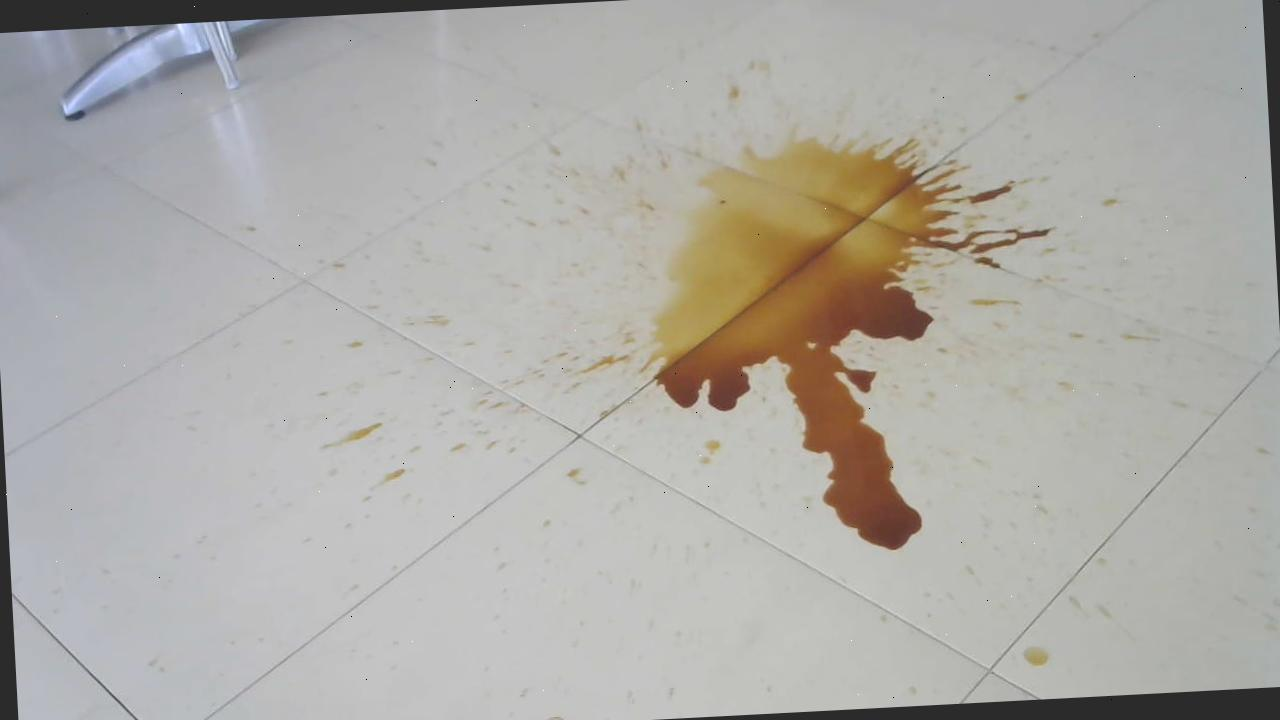dirty_floor: (304, 54, 1100, 589)
